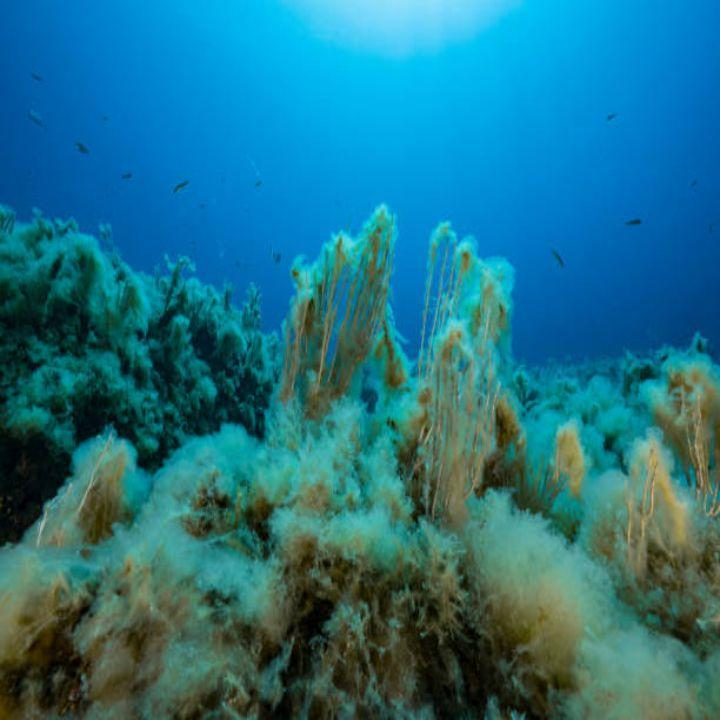Dead Coral: (251, 192, 584, 577)
